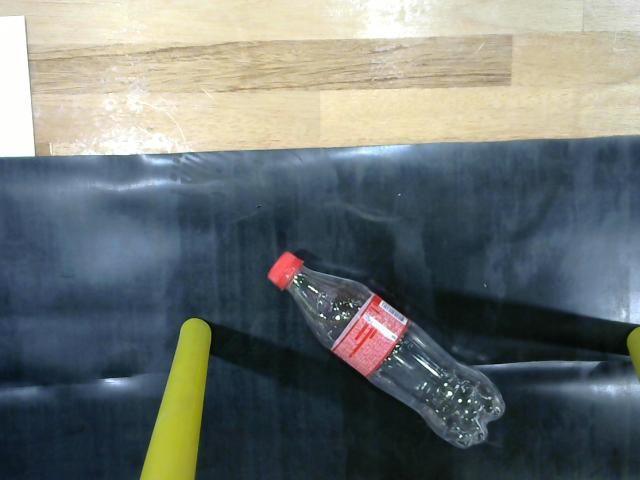bottle: (257, 241, 521, 454)
